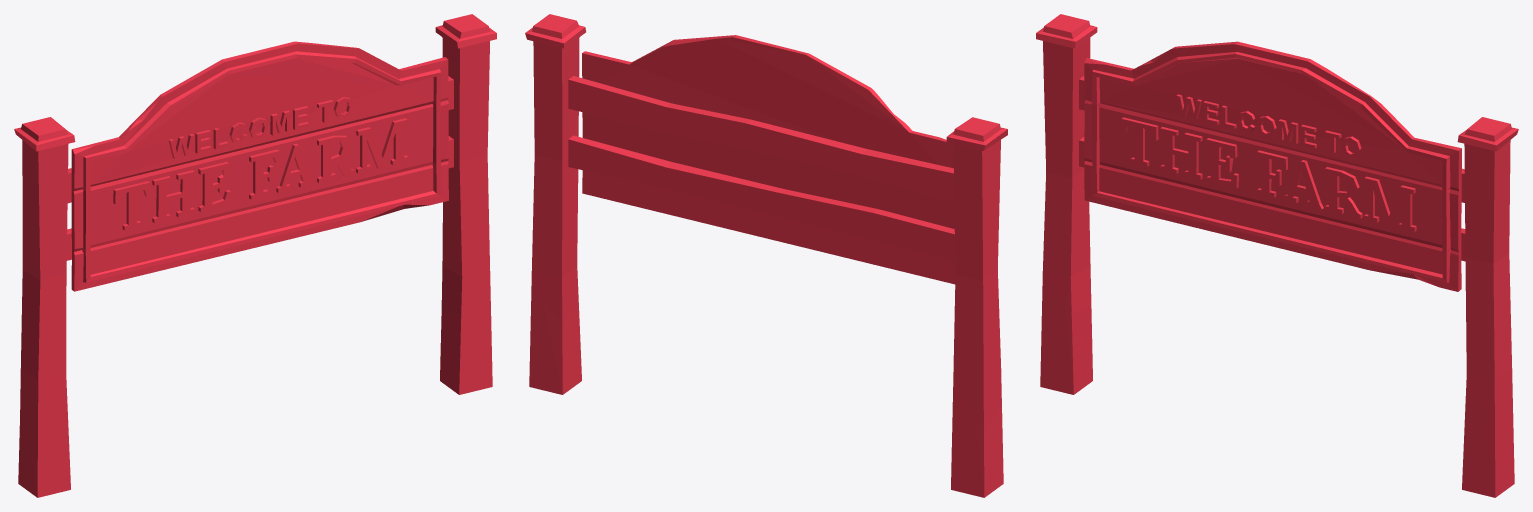
File: SM_Sign_Farm_Text.fbx
3 renders of one model, left to right at view 1: azimuth 30°, elevation 25°; view 2: azimuth 150°, elevation 25°; view 3: azimuth 330°, elevation 25°, orthographic.
Visible parts, largest first — view 1: sign-farm-text; view 2: sign-farm-text; view 3: sign-farm-text.
Part boxes in pixels (box(x1,y1,x2,y2)): sign-farm-text: box(14, 14, 496, 497); sign-farm-text: box(525, 14, 1007, 497); sign-farm-text: box(1036, 14, 1518, 497).
Size of the model in its own units: 3.06 by 2.46 by 0.2581.
